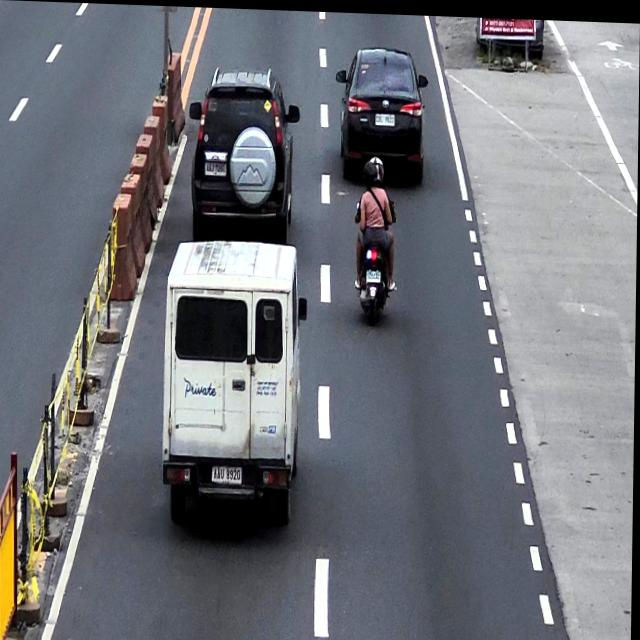Car: (162, 236, 310, 529), (189, 64, 301, 243), (334, 43, 429, 186)
License-Plate: (213, 465, 244, 484), (205, 160, 227, 174), (375, 110, 395, 123), (367, 266, 382, 280)
Motorcycle: (355, 195, 398, 324)
